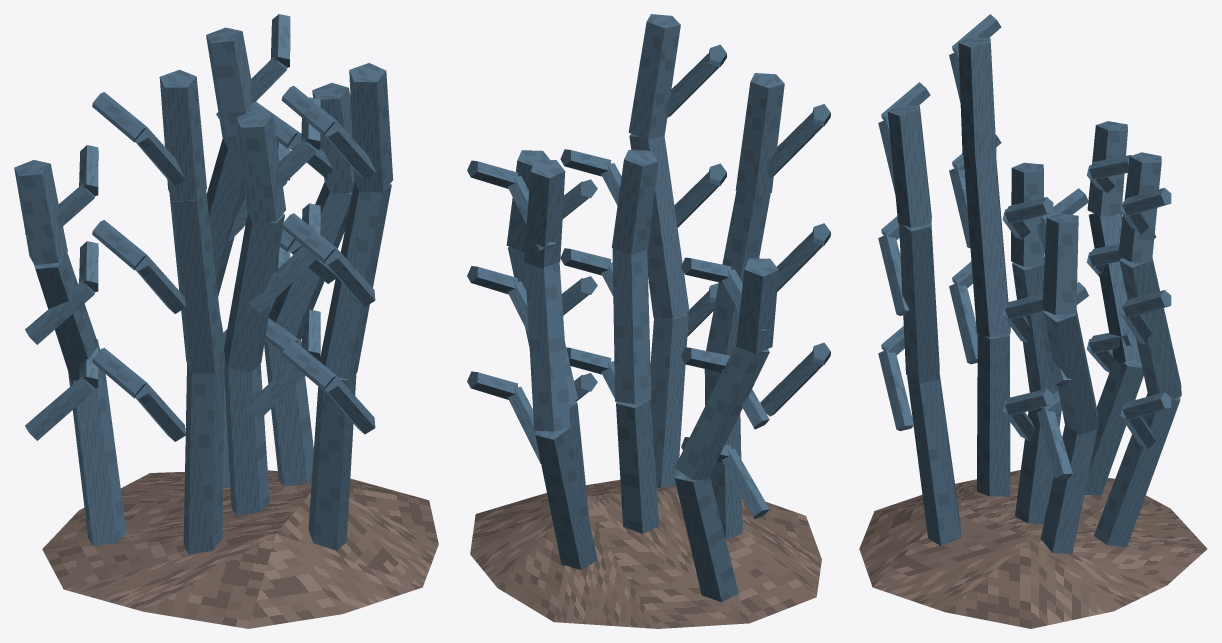
Rendered from f_nm_nether_grass.glb.
3 renders of one model, left to right at view 1: azimuth 30°, elevation 25°; view 2: azimuth 150°, elevation 25°; view 3: azimuth 270°, elevation 25°, orthographic. The views are drawn at different scales.
Visible parts, largest first — view 1: block_root-substrate, block_segmented-plant-stem-2 (×6), block_segmented-plant-stem-1 (×5), block_segmented-plant-stem-3 (×6), block_angled-blade-1 (×13), block_angled-blade-2 (×12); view 2: block_root-substrate, block_segmented-plant-stem-2 (×6), block_segmented-plant-stem-1 (×6), block_segmented-plant-stem-3 (×6), block_angled-blade-1 (×12), block_angled-blade-2 (×8); view 3: block_root-substrate, block_segmented-plant-stem-1 (×6), block_segmented-plant-stem-2 (×6), block_segmented-plant-stem-3 (×6), block_angled-blade-2 (×12), block_angled-blade-1 (×9).
Boxes of the visible parts, bbox=[...] form: block_root-substrate: bbox=[42, 470, 438, 628]; block_segmented-plant-stem-2 (×6): bbox=[34, 139, 391, 384]; block_segmented-plant-stem-1 (×5): bbox=[68, 339, 356, 554]; block_segmented-plant-stem-3 (×6): bbox=[14, 27, 393, 265]; block_angled-blade-1 (×13): bbox=[25, 56, 375, 441]; block_angled-blade-2 (×12): bbox=[79, 14, 336, 398]; block_root-substrate: bbox=[470, 480, 821, 628]; block_segmented-plant-stem-2 (×6): bbox=[508, 133, 770, 479]; block_segmented-plant-stem-1 (×6): bbox=[535, 313, 742, 602]; block_segmented-plant-stem-3 (×6): bbox=[506, 14, 784, 353]; block_angled-blade-1 (×12): bbox=[507, 53, 827, 518]; block_angled-blade-2 (×8): bbox=[467, 149, 731, 399]; block_root-substrate: bbox=[859, 470, 1207, 628]; block_segmented-plant-stem-1 (×6): bbox=[907, 333, 1180, 554]; block_segmented-plant-stem-2 (×6): bbox=[899, 155, 1181, 435]; block_segmented-plant-stem-3 (×6): bbox=[887, 37, 1161, 314]; block_angled-blade-2 (×12): bbox=[881, 14, 1171, 419]; block_angled-blade-1 (×9): bbox=[878, 167, 1156, 480].
Size of the model in its own units: 0.6371 by 0.8499 by 0.5784.
1 material, 1 textured.
